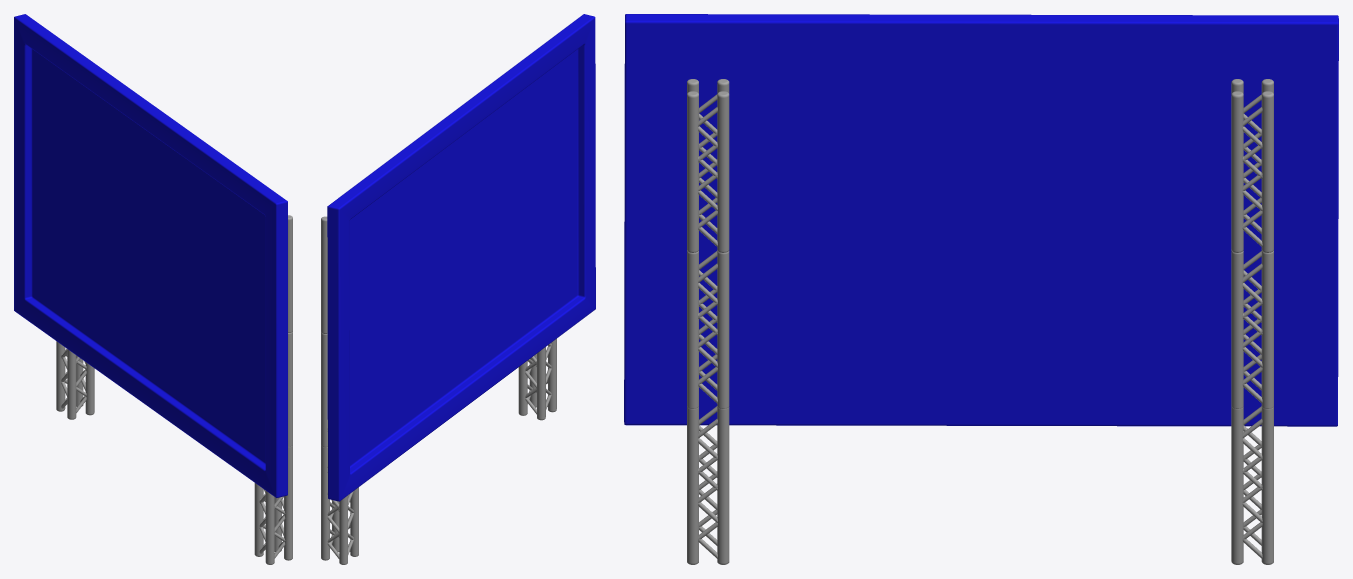
File: SM_Billboard_Small_01.fbx
3 views of the same model, side by side, from view 1: azimuth 30°, elevation 25°; view 2: azimuth 150°, elevation 25°; view 3: azimuth 270°, elevation 25° (orthographic). The views are drawn at different scales.
Visible parts, largest first — view 1: Plane.003; view 2: Plane.003; view 3: Plane.003.
Boxes of the visible parts, left/top/right/bottom form: Plane.003: left=14, top=14, right=292, bottom=564; Plane.003: left=321, top=14, right=595, bottom=564; Plane.003: left=624, top=14, right=1338, bottom=564.
Bounding box in the file's own units: 79.44 × 665 × 821.
